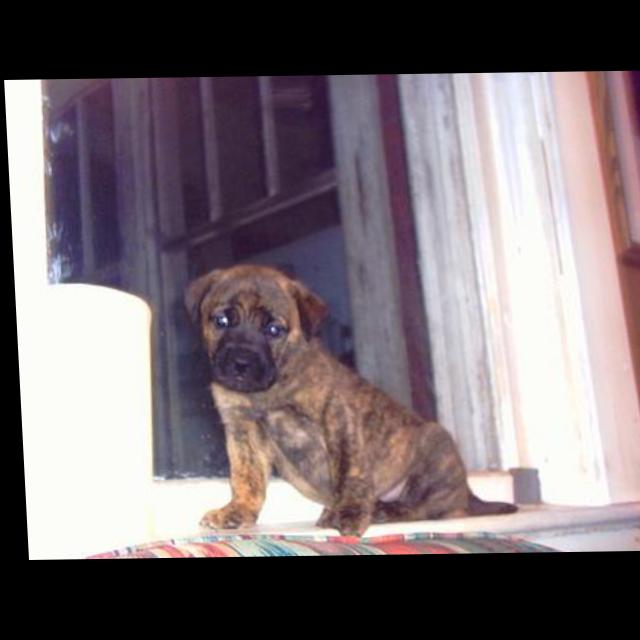bullmastiff: (180, 261, 515, 542)
